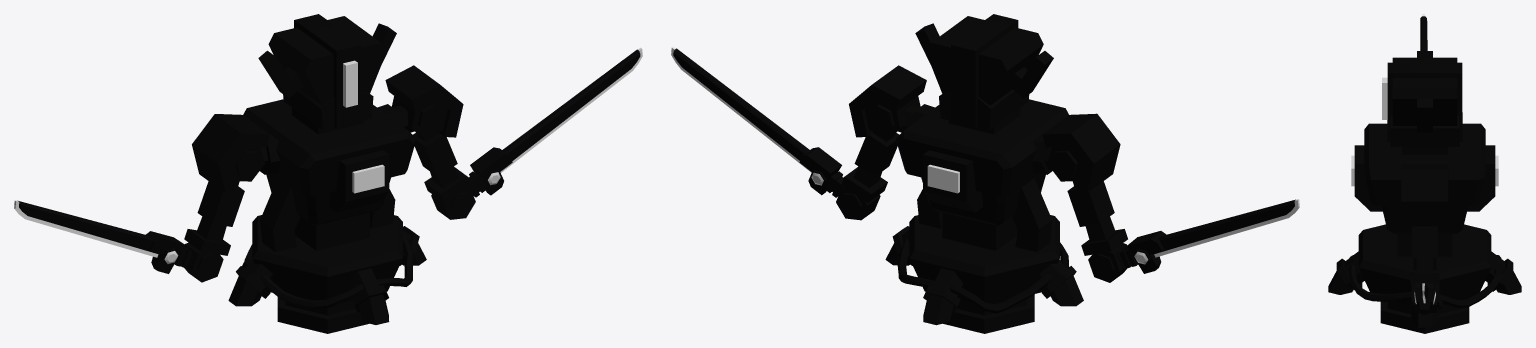
The model's file is BossKnife  (3).fbx.
3 views of the same model, side by side, from view 1: azimuth 30°, elevation 25°; view 2: azimuth 150°, elevation 25°; view 3: azimuth 270°, elevation 25° (orthographic). The views are drawn at different scales.
Visible parts, largest first — view 1: BossKnife .001, BossKnife, BossKnife .004, BossKnife .006, BossKnife .007, BossKnife .002, BossKnife .005, BossKnife .003; view 2: BossKnife .001, BossKnife, BossKnife .004, BossKnife .006, BossKnife .007, BossKnife .002, BossKnife .005; view 3: BossKnife .001, BossKnife, BossKnife .004, BossKnife .006, BossKnife .003, BossKnife .002.
Boxes of the visible parts, left/top/right/bottom form: BossKnife .001: left=184, top=65, right=475, bottom=333; BossKnife: left=258, top=14, right=396, bottom=134; BossKnife .004: left=468, top=49, right=640, bottom=197; BossKnife .006: left=17, top=200, right=194, bottom=273; BossKnife .007: left=14, top=200, right=178, bottom=263; BossKnife .002: left=352, top=164, right=384, bottom=193; BossKnife .005: left=488, top=47, right=642, bottom=185; BossKnife .003: left=343, top=60, right=357, bottom=107; BossKnife .001: left=836, top=65, right=1127, bottom=333; BossKnife: left=915, top=14, right=1053, bottom=134; BossKnife .004: left=673, top=48, right=844, bottom=197; BossKnife .006: left=1117, top=199, right=1295, bottom=273; BossKnife .007: left=1134, top=199, right=1299, bottom=264; BossKnife .002: left=927, top=164, right=959, bottom=193; BossKnife .005: left=671, top=46, right=823, bottom=185; BossKnife .001: left=1328, top=123, right=1521, bottom=333; BossKnife: left=1387, top=51, right=1462, bottom=154; BossKnife .004: left=1414, top=283, right=1435, bottom=314; BossKnife .006: left=1420, top=16, right=1427, bottom=50; BossKnife .003: left=1382, top=77, right=1387, bottom=119; BossKnife .002: left=1351, top=155, right=1498, bottom=186.
Bounding box in the file's own units: 5.8 × 1.76 × 2.45.
